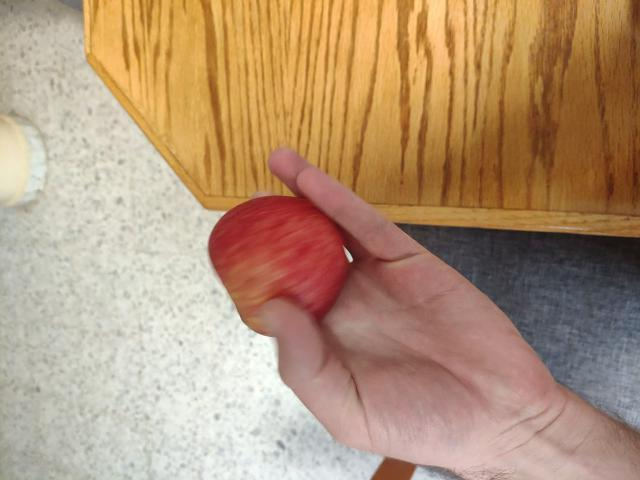apple: (194, 192, 366, 339)
